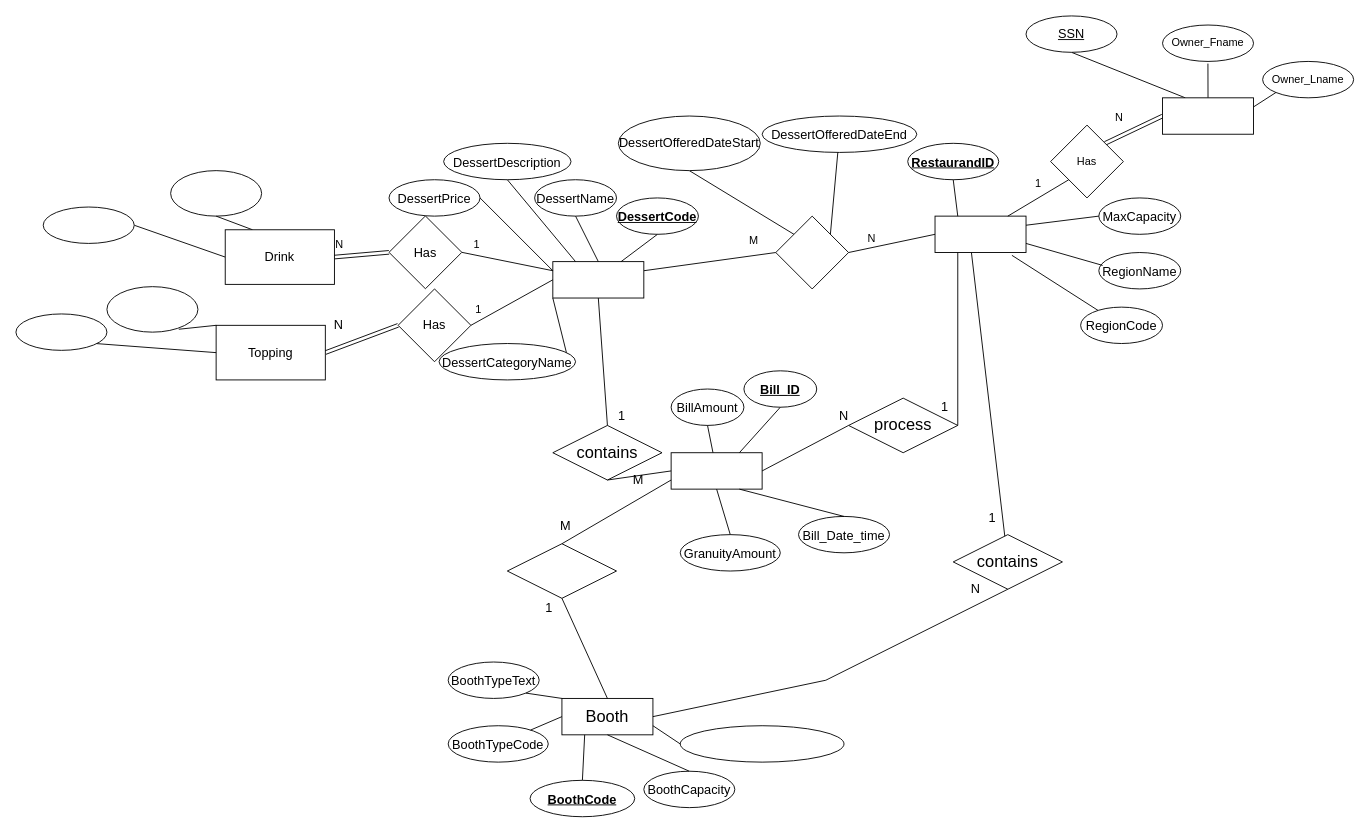
The diagram is 1370 pixels wide and 833 high, and some of its shapes have lost their labels. Here are the shapes that lost their labels. From the top down, the centre of each, then its label:
At point 1208,115: "Owner".
At point 216,193: "DrinkName".
At point 88,224: "DrinkID".
At point 980,234: "Restaurant".
At point 812,252: "Offer".
At point 598,279: "Dessert".
At point 152,309: "ToppingName".
At point 61,331: "ToppingID".
At point 716,470: "Bill".
At point 561,570: "generate".
At point 761,743: "SmokingSectionIndicator".
